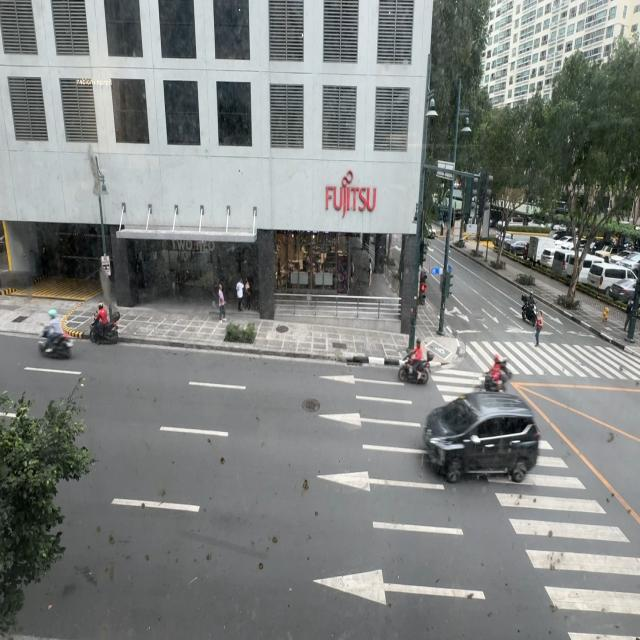crossing: (534, 310, 543, 347)
